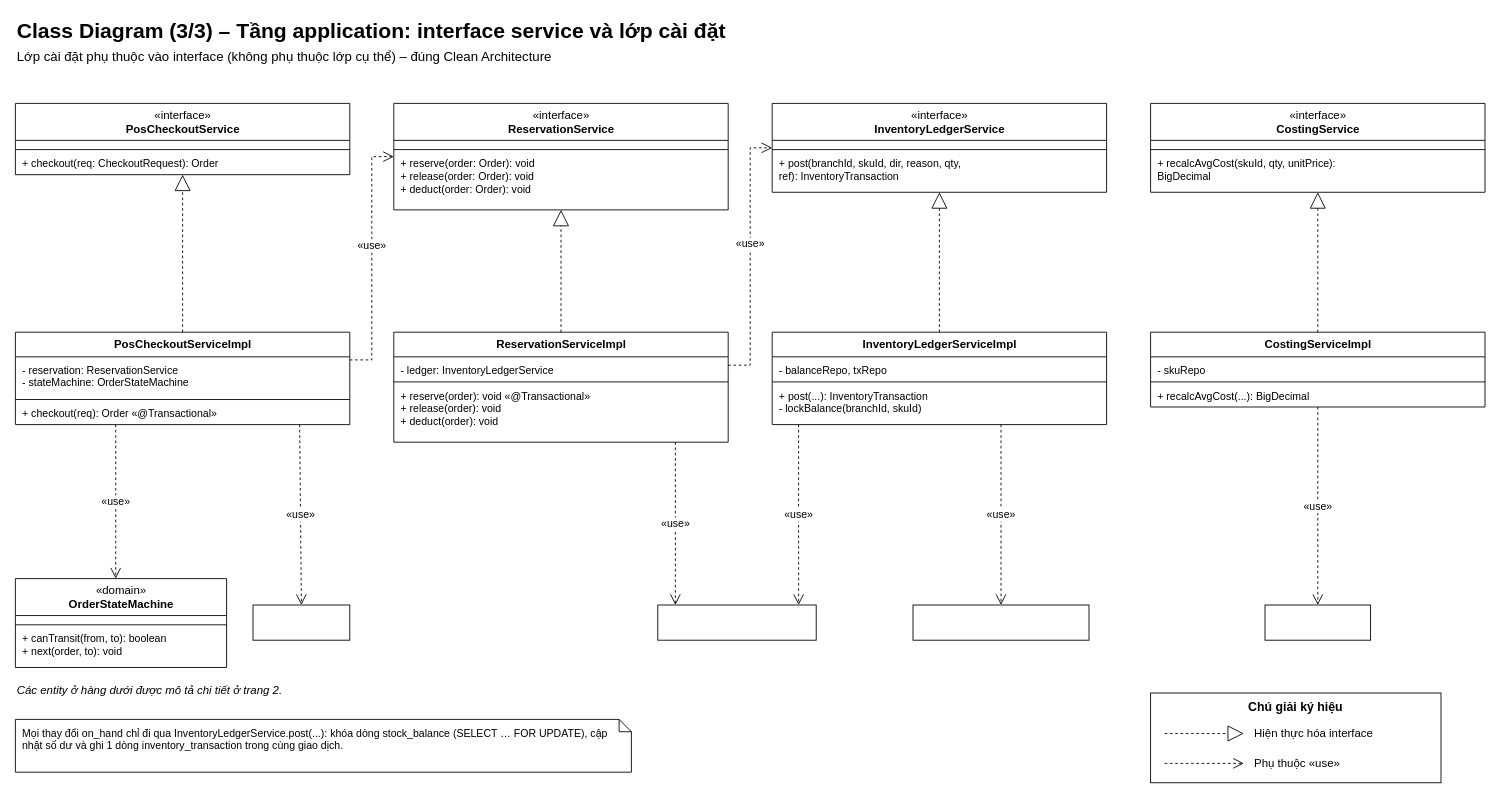
Some shapes in this 1500 by 798 pixel diagram are drawn without their labels. The shapes that lost their labels are listed below. From the top down, each one's centre as x and y in pixels, then its label:
point (301, 622): Order
point (736, 622): StockBalance
point (1000, 622): InventoryTransaction
point (1317, 622): Sku
